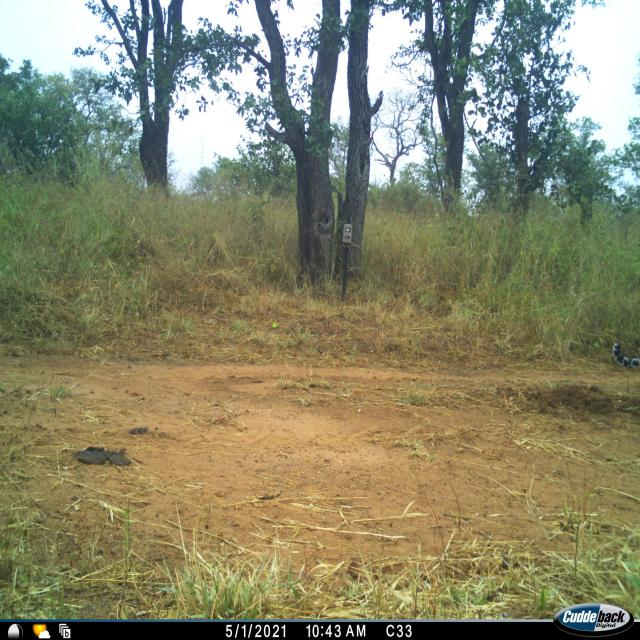Leopard: (610, 339, 639, 372)
